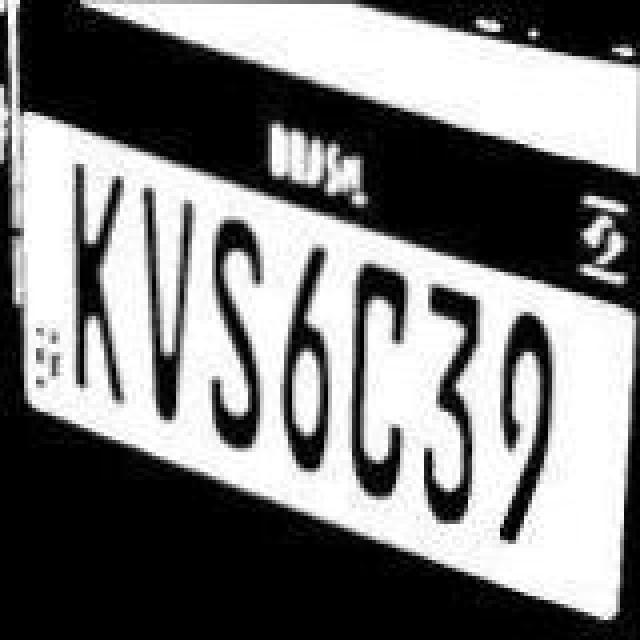3: (422, 272, 486, 540)
6: (282, 232, 338, 468)
9: (494, 304, 558, 552)
C: (348, 258, 416, 498)
K: (70, 160, 134, 400)
S: (204, 210, 272, 450)
V: (132, 178, 200, 430)
